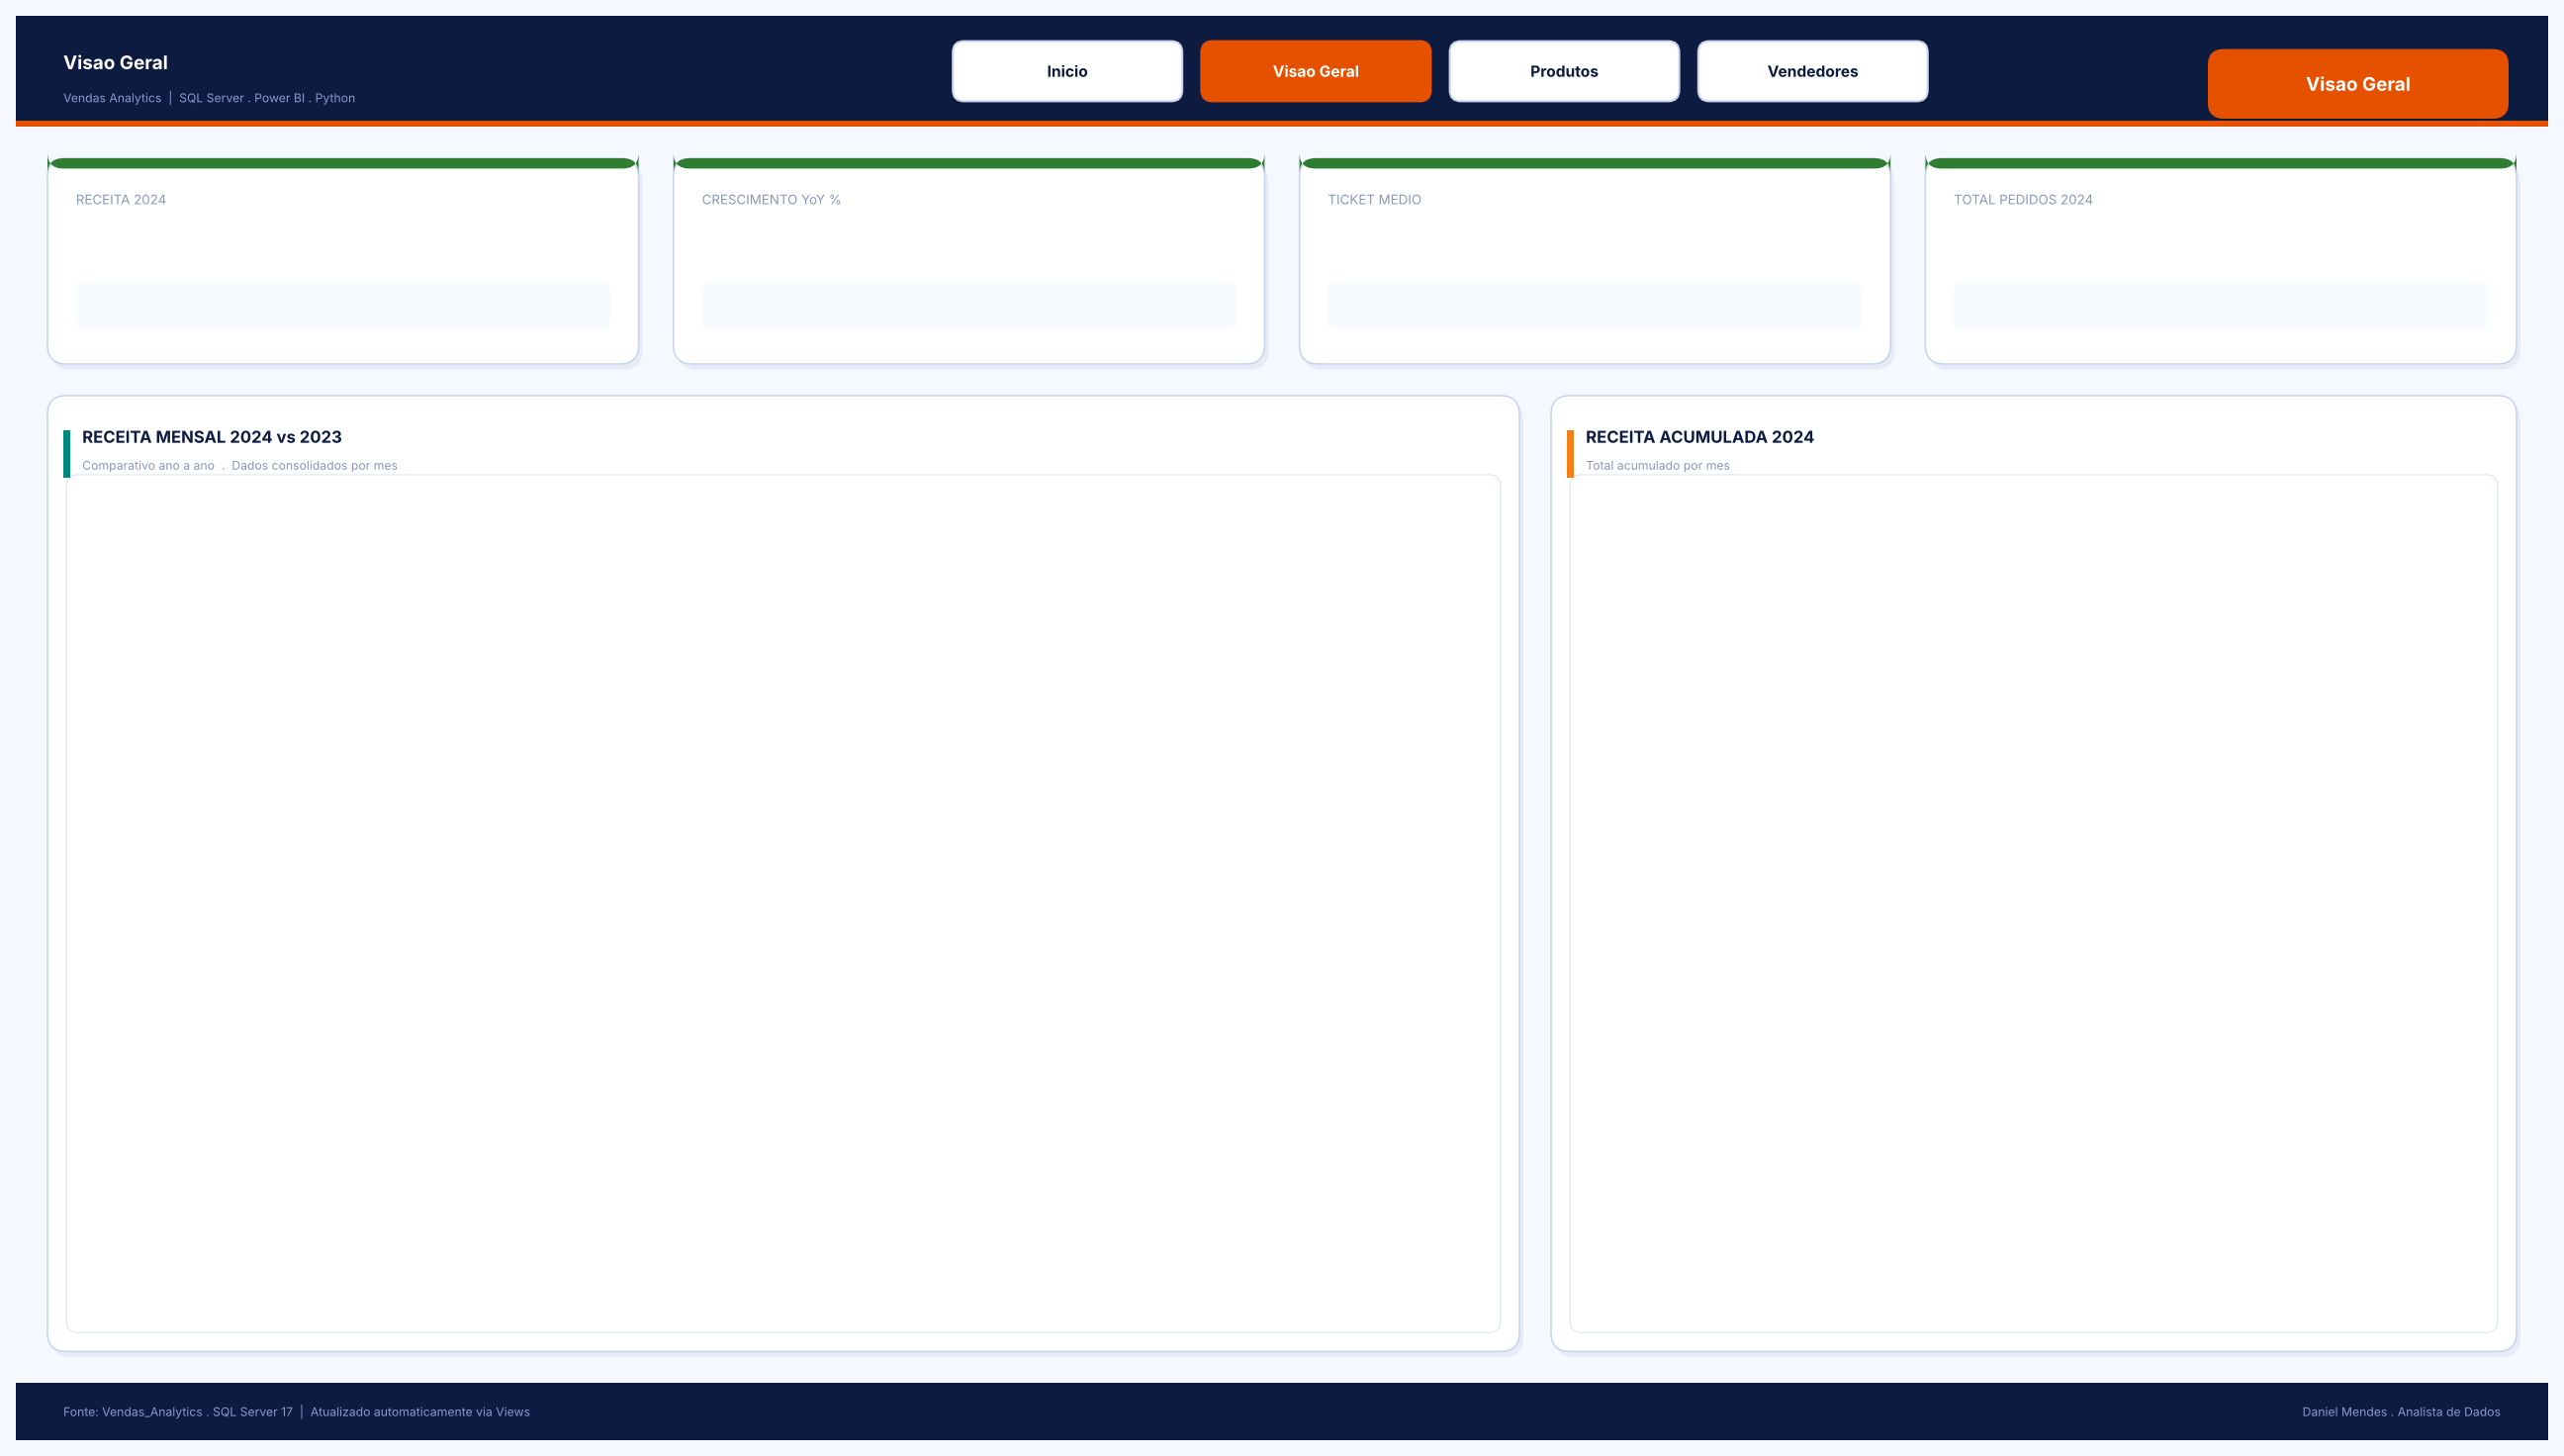

Layout of this report page (visuals, bound fields, positions):
{"tool":"powerbi","page":{"name":"Visão Geral","canvas":[1920,1080],"ordinal":1},"visuals":[{"type":"cardVisual","fields":{"Data":["_Medidas.Receita 2024 Fmt"]},"box":[47.1,175.6,413.2,83.5],"z":0},{"type":"cardVisual","fields":{"Data":["_Medidas.Crescimento YoY Fmt"]},"box":[507.4,175.6,413.2,83.5],"z":1000},{"type":"cardVisual","fields":{"Data":["_Medidas.Ticket Médio Fmt"]},"box":[978.4,177.7,413.2,83.5],"z":2000},{"type":"cardVisual","fields":{"Data":["_Medidas.Total Pedidos 2024"]},"box":[1447.3,177.7,413.2,83.5],"z":3000},{"type":"clusteredColumnChart","fields":{"Category":["vw_vendas_mensal_yoy.mes_nome"],"Y":["_Medidas.Receita 2024","_Medidas.Receita 2023"]},"box":[46.2,345.4,1073.5,642.3],"z":4000},{"type":"areaChart","fields":{"Category":["vw_vendas_mensal_yoy.mes_nome"],"Y":["_Medidas.Receita Acumulada 2024"]},"box":[1185.7,345.4,675.3,642.3],"z":5000},{"type":"actionButton","box":[714.9,22,169.4,41.8],"z":6000},{"type":"actionButton","box":[1084.5,22,169.4,41.8],"z":7000},{"type":"actionButton","box":[1273.7,22,173.8,41.8],"z":8000}]}

Visuals, with their boxes in screenshot pixels (x1, y1, x2, y2), scaled from the page's 1920x1080 canvas onto the 2564x1456 screenshot:
cardVisual - _Medidas.Receita 2024 Fmt: box=[63, 236, 614, 349]
cardVisual - _Medidas.Crescimento YoY Fmt: box=[678, 236, 1230, 349]
cardVisual - _Medidas.Ticket Médio Fmt: box=[1307, 239, 1859, 352]
cardVisual - _Medidas.Total Pedidos 2024: box=[1933, 239, 2485, 352]
clusteredColumnChart - vw_vendas_mensal_yoy.mes_nome x _Medidas.Receita 2024: box=[61, 466, 1496, 1331]
areaChart - vw_vendas_mensal_yoy.mes_nome x _Medidas.Receita Acumulada 2024: box=[1584, 466, 2485, 1331]
actionButton: box=[955, 30, 1181, 86]
actionButton: box=[1448, 30, 1675, 86]
actionButton: box=[1700, 30, 1933, 86]
